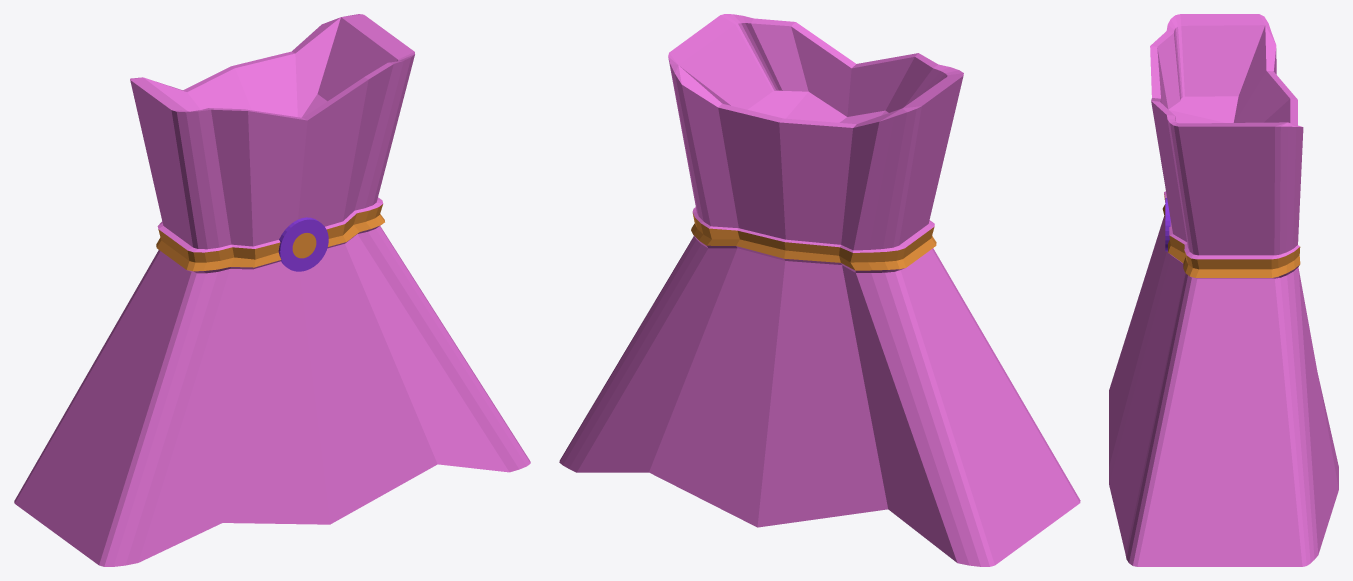
The model's file is dress.fbx.
The picture shows the model from 3 angles, left to right: view 1: azimuth 30°, elevation 25°; view 2: azimuth 150°, elevation 25°; view 3: azimuth 270°, elevation 25°; orthographic projection. The views are drawn at different scales.
Visible parts, largest first — view 1: Cube, Circle; view 2: Cube; view 3: Cube.
Boxes of the visible parts, bbox=[...] form: Cube: bbox=[14, 14, 530, 566]; Circle: bbox=[278, 217, 328, 271]; Cube: bbox=[559, 14, 1080, 566]; Cube: bbox=[1109, 14, 1338, 566].
Bounding box in the file's own units: 355 × 329 × 173.
